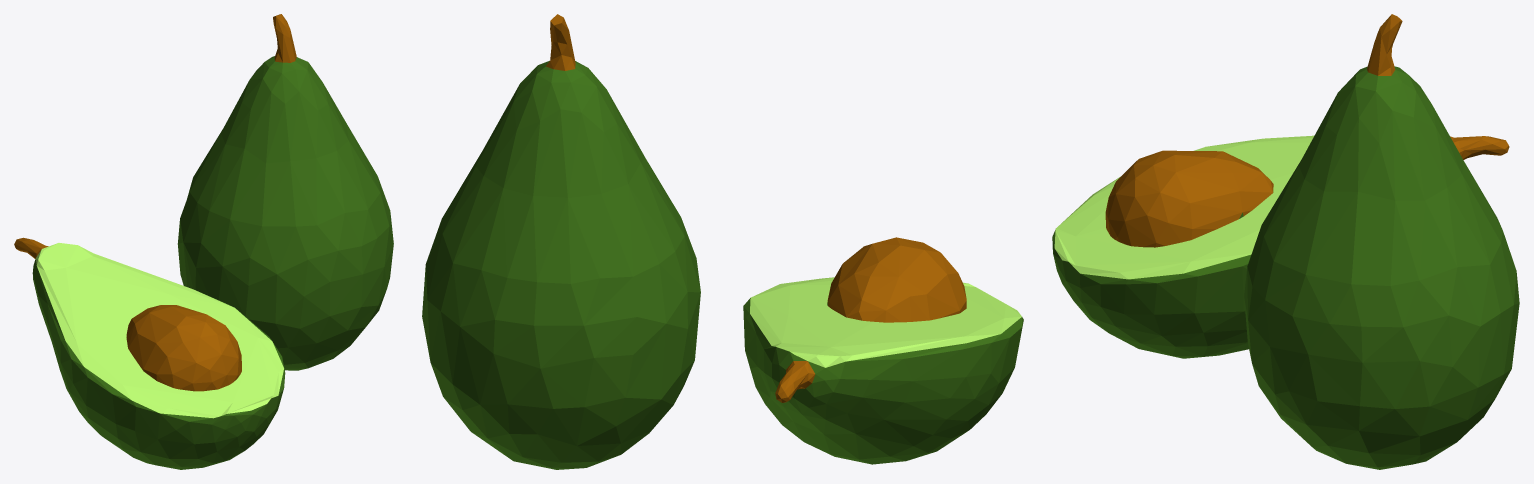
The model's file is Avokado.fbx.
3 renders of one model, left to right at view 1: azimuth 30°, elevation 25°; view 2: azimuth 150°, elevation 25°; view 3: azimuth 270°, elevation 25°, orthographic. The views are drawn at different scales.
Parts seen in each view (by area): view 1: Avokado; view 2: Avokado; view 3: Avokado.
Boxes of the visible parts, box(x1,y1,x2,y2) form: Avokado: box(14, 14, 393, 469); Avokado: box(422, 14, 1023, 469); Avokado: box(1052, 14, 1519, 469).
Bounding box in the file's own units: 0.9683 × 0.8749 × 0.8372.
